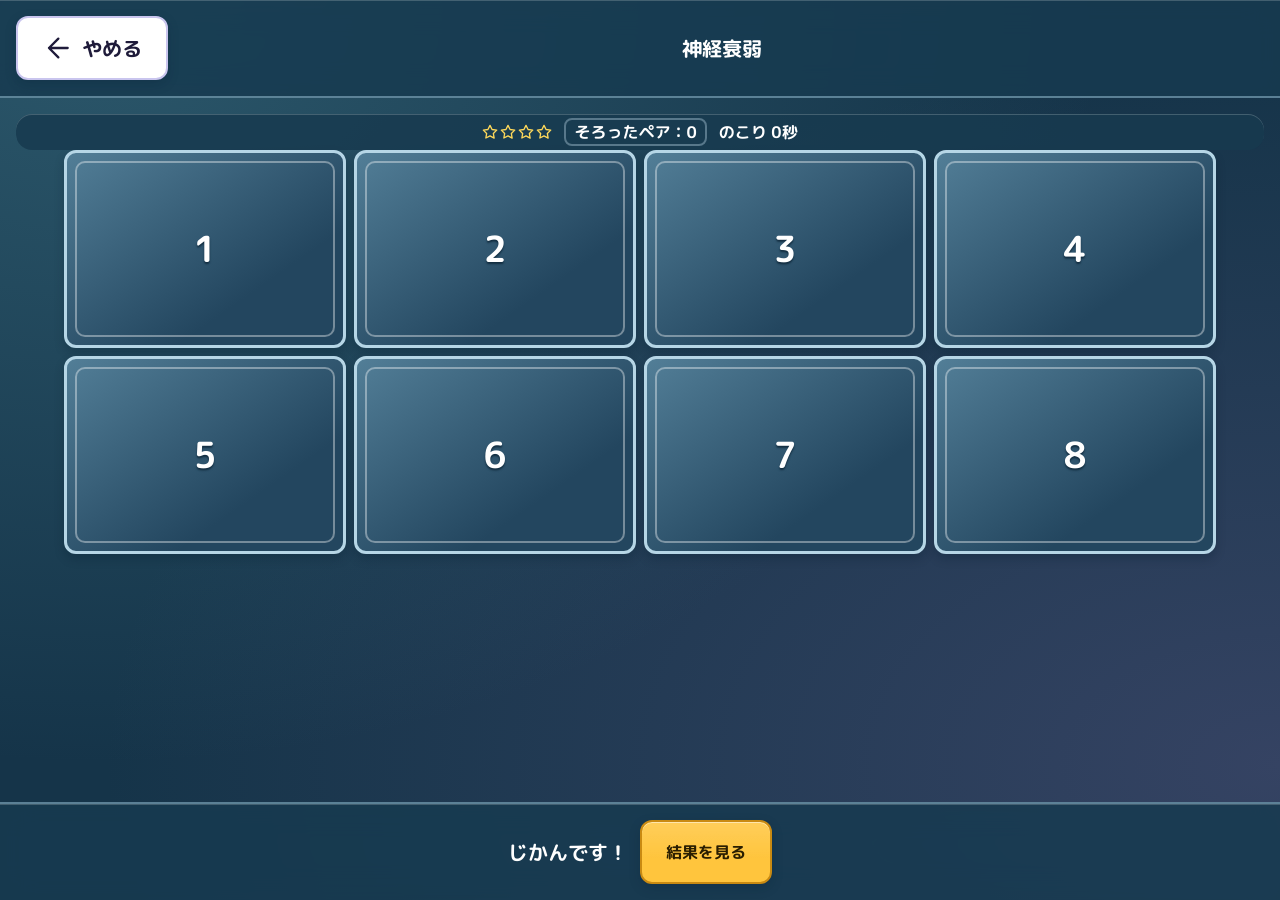
it: 神経衰弱 › 制限時間で終了する
The width and height of the screenshot is (1280, 900).
Expected: the text "じかんです！" is shown, x1=508 y1=838 x2=628 y2=866
Click the button "結果を見る": [706, 852] box x1=640 y1=820 x2=772 y2=884
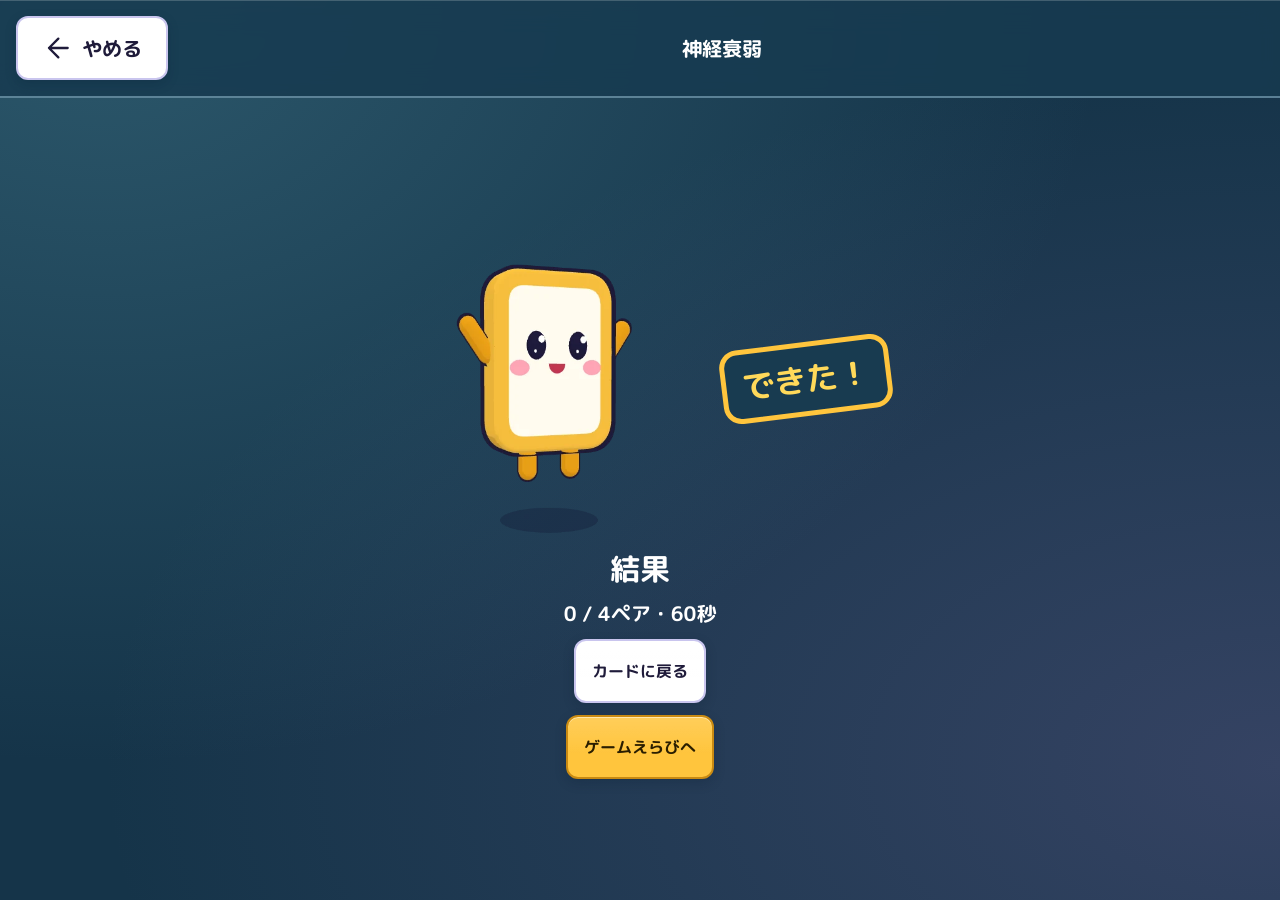
Expected: the text "0 / 4ペア・60秒" is shown, x1=564 y1=599 x2=716 y2=627
